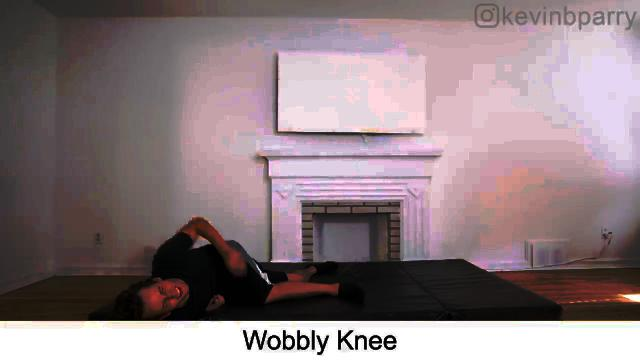jatuh: (104, 205, 373, 317)
